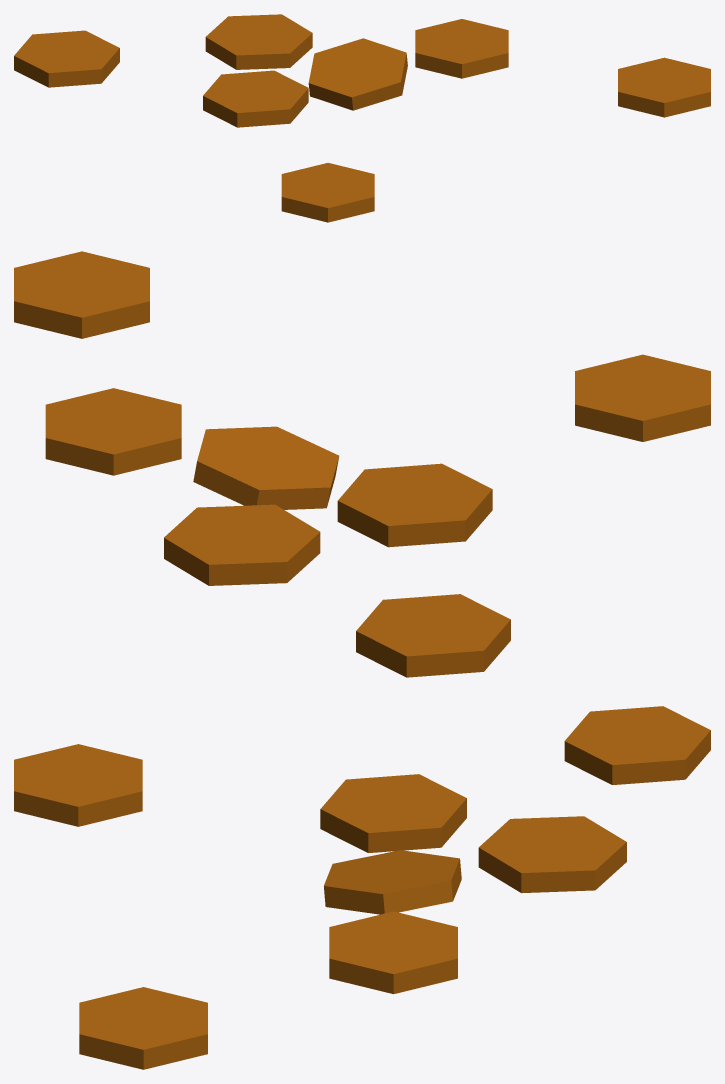
File: SM_coins_many.fbx
3 renders of one model, top to bottom at view 1: azimuth 30°, elevation 25°; view 2: azimuth 150°, elevation 25°; view 3: azimuth 270°, elevation 25°, orthographic. The views are drawn at different scales.
Visible parts, largest first — view 1: Cylinder037; view 2: Cylinder037; view 3: Cylinder037.
Boxes of the visible parts, x1=… form: Cylinder037: x1=14, y1=14, x2=710, y2=222; Cylinder037: x1=14, y1=251, x2=710, y2=677; Cylinder037: x1=14, y1=706, x2=710, y2=1069.
Size of the model in its own units: 16.09 by 0.8684 by 13.79.
